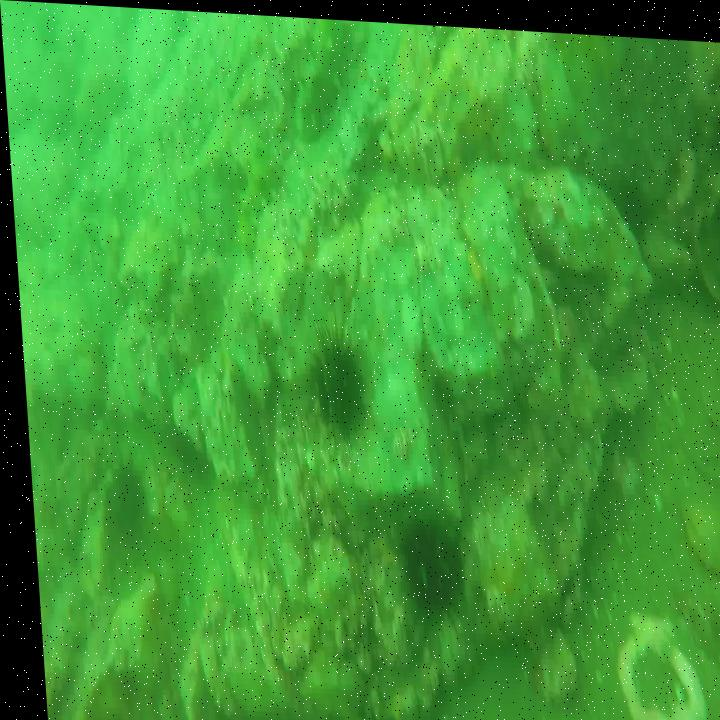echinus: (392, 507, 460, 615), (304, 327, 363, 428)
